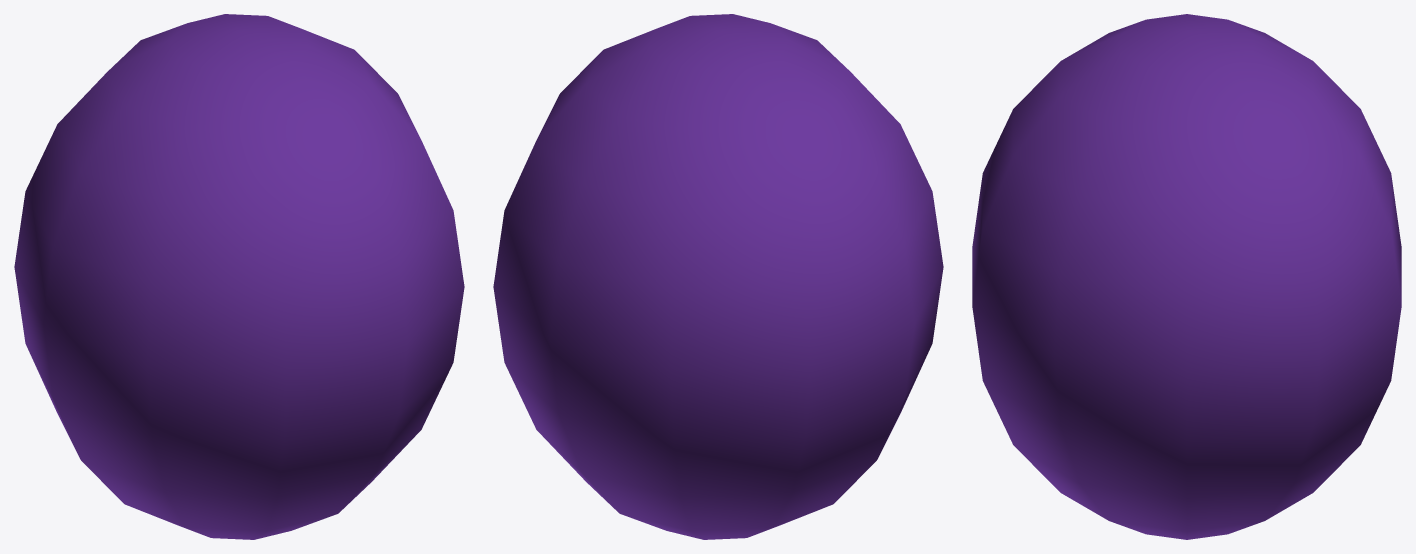
The model's file is Arcanshade_stage1.obj.
3 renders of one model, left to right at view 1: azimuth 30°, elevation 25°; view 2: azimuth 150°, elevation 25°; view 3: azimuth 270°, elevation 25°, orthographic.
Bounding box in the file's own units: 1.6 × 1.92 × 1.52.
